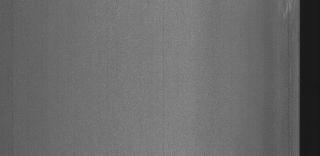silk spot: (277, 0, 299, 36)
